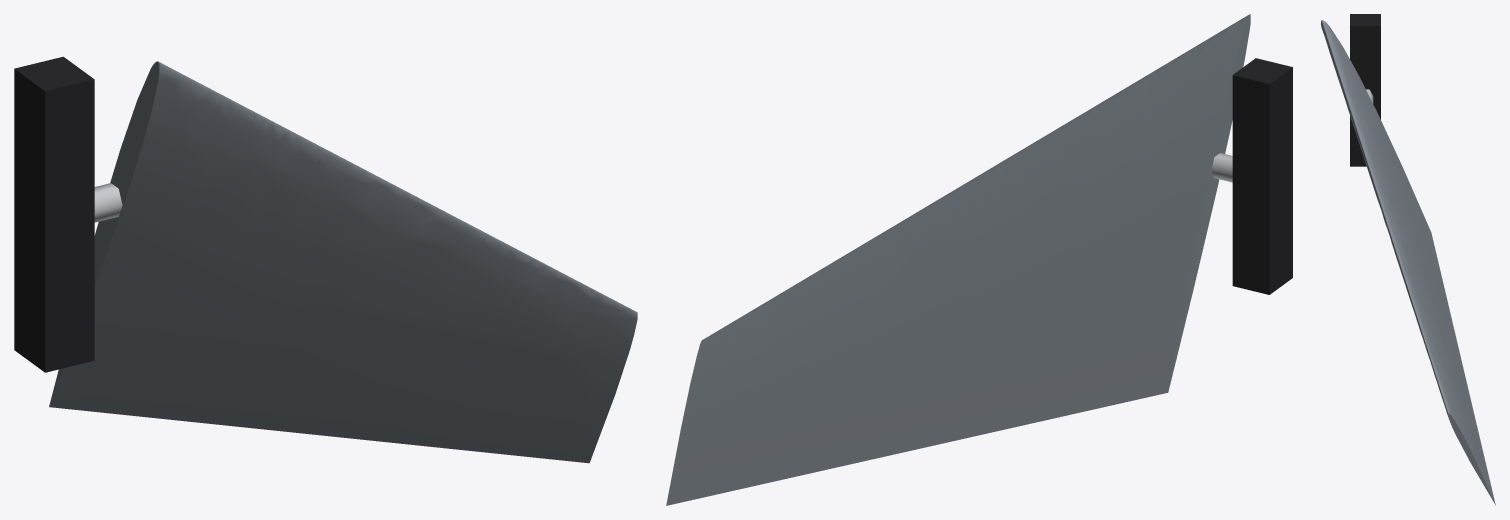
Rendered from jet09_control_surface_canard_s_defl_pos.glb.
3 views of the same model, side by side, from view 1: azimuth 30°, elevation 25°; view 2: azimuth 150°, elevation 25°; view 3: azimuth 270°, elevation 25° (orthographic). The views are drawn at different scales.
Parts seen in each view (by area): view 1: surface, root_housing, pivot_shaft; view 2: surface, root_housing; view 3: surface, root_housing.
Boxes of the visible parts, x1,y1,x2,y2 form: surface: (49,61,637,463); root_housing: (14,56,94,372); pivot_shaft: (94,183,122,222); surface: (666,14,1250,505); root_housing: (1232,58,1292,294); surface: (1321,20,1495,505); root_housing: (1350,14,1380,166).
Size of the model in its own units: 1.23 by 1.15 by 0.5409.
Materials: 3 (1 with a texture image).
